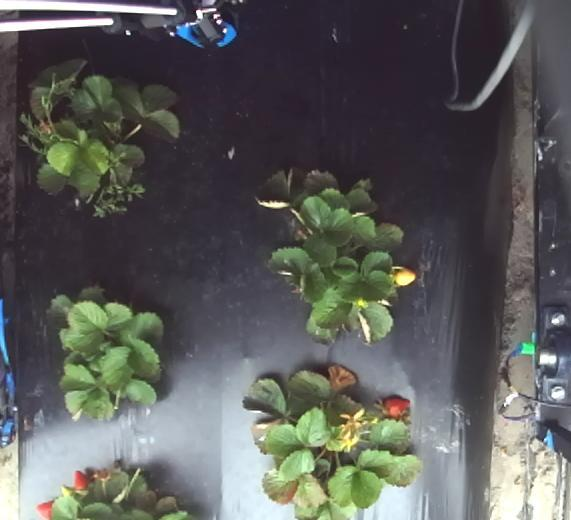mature: (379, 394, 411, 421), (35, 498, 54, 519), (72, 469, 88, 490)
